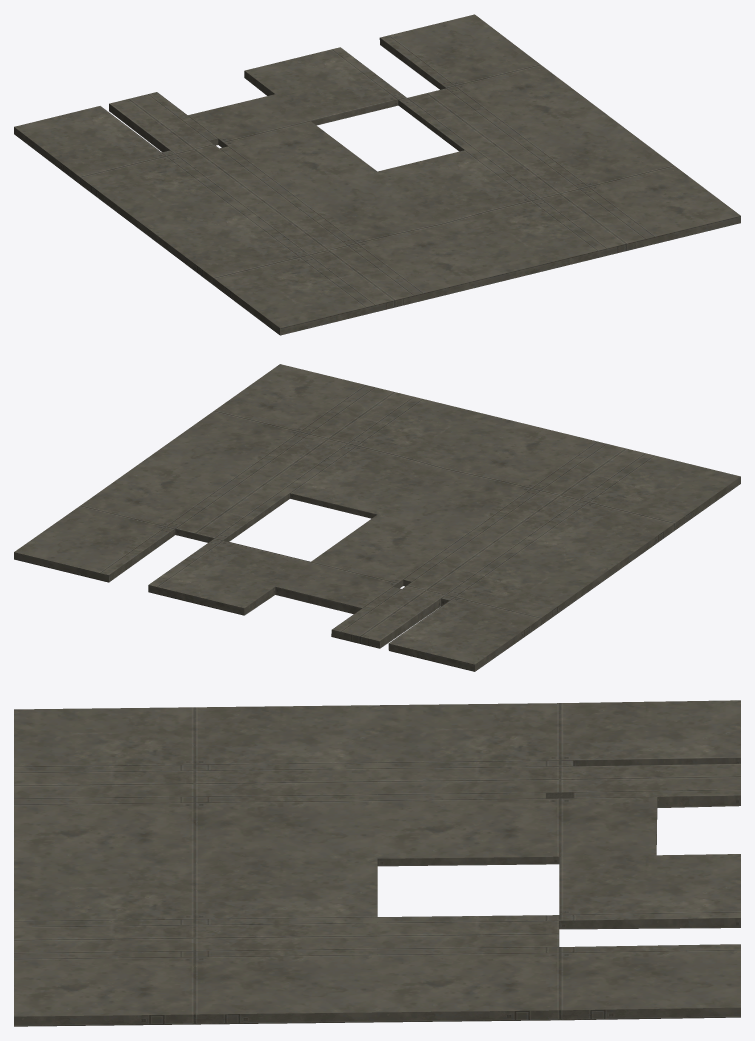
The model's file is lab_floor_broken.dae.
3 renders of one model, top to bottom at view 1: azimuth 30°, elevation 25°; view 2: azimuth 150°, elevation 25°; view 3: azimuth 270°, elevation 25°, orthographic. The views are drawn at different scales.
Visible parts, largest first — view 1: pPlane1; view 2: pPlane1; view 3: pPlane1.
Part boxes in pixels (left/top/right/bottom): pPlane1: left=14, top=14, right=740, bottom=335; pPlane1: left=14, top=364, right=740, bottom=671; pPlane1: left=14, top=700, right=740, bottom=1026.
Size of the model in its own units: 4 by 0.1158 by 4.
